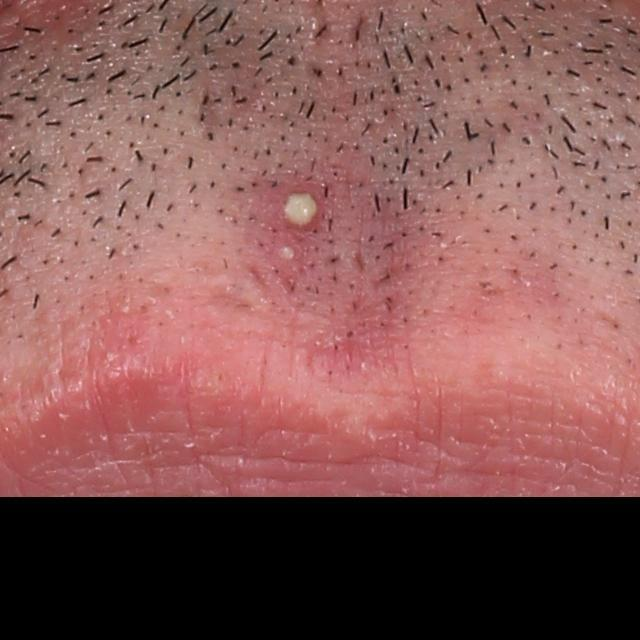pustule: (260, 180, 331, 245), (270, 238, 301, 265)
